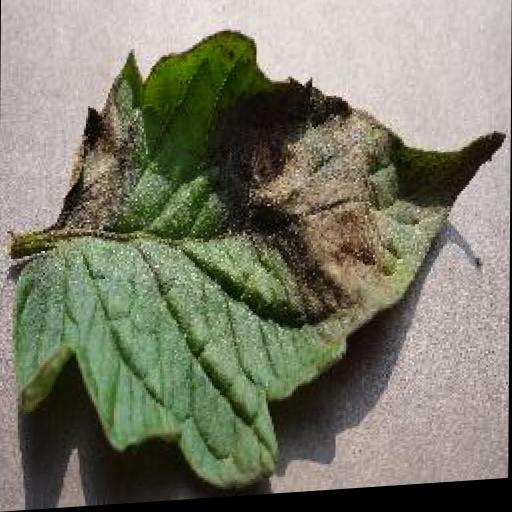Late Blight: (15, 16, 511, 500)
